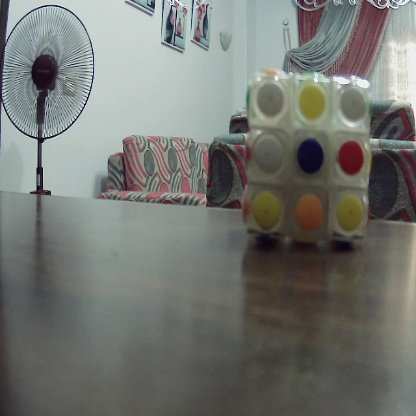Rubix Cube: (243, 71, 370, 245)
